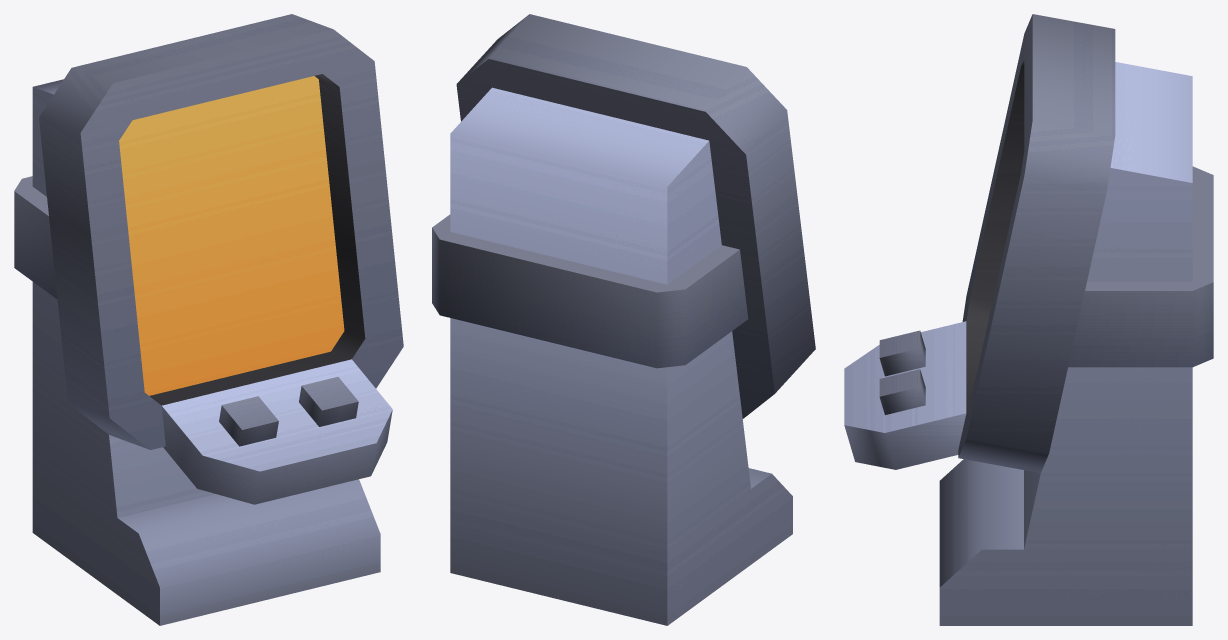
Rendered from computer.glb.
3 renders of one model, left to right at view 1: azimuth 30°, elevation 25°; view 2: azimuth 150°, elevation 25°; view 3: azimuth 270°, elevation 25°, orthographic.
Visible parts, largest first — view 1: computer; view 2: computer; view 3: computer.
Part boxes in pixels (box(x1,y1,x2,y2)): computer: box(14, 14, 403, 625); computer: box(432, 14, 815, 625); computer: box(844, 14, 1213, 625).
Size of the model in its own units: 1.2 by 1.98 by 1.31.
1 material, 1 textured.
